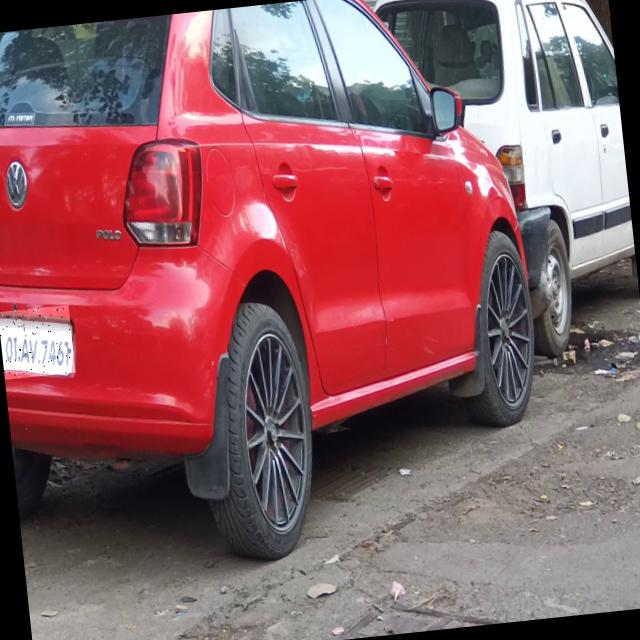Plate: (1, 305, 76, 380)
